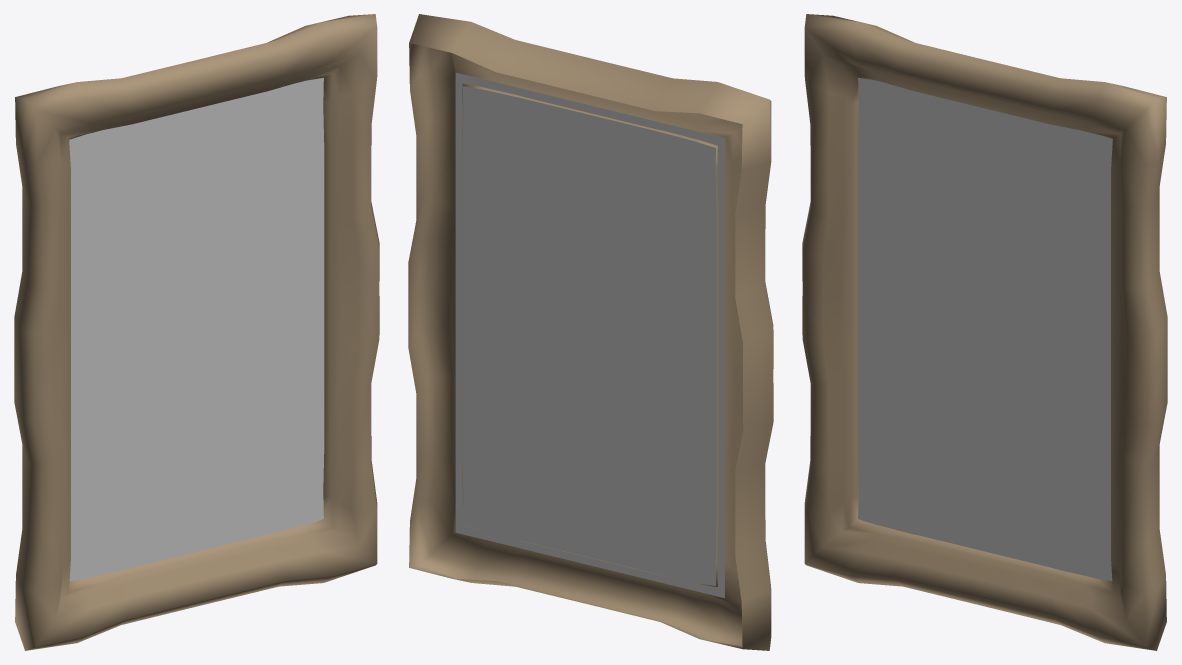
Rendered from Painting01.fbx.
3 views of the same model, side by side, from view 1: azimuth 30°, elevation 25°; view 2: azimuth 150°, elevation 25°; view 3: azimuth 330°, elevation 25° (orthographic).
Visible parts, largest first — view 1: Painting01; view 2: Painting01; view 3: Painting01.
Boxes of the visible parts, bbox=[...] form: Painting01: bbox=[14, 14, 379, 650]; Painting01: bbox=[408, 14, 773, 650]; Painting01: bbox=[802, 14, 1167, 650].
Bounding box in the file's own units: 165 × 246 × 20.23.
